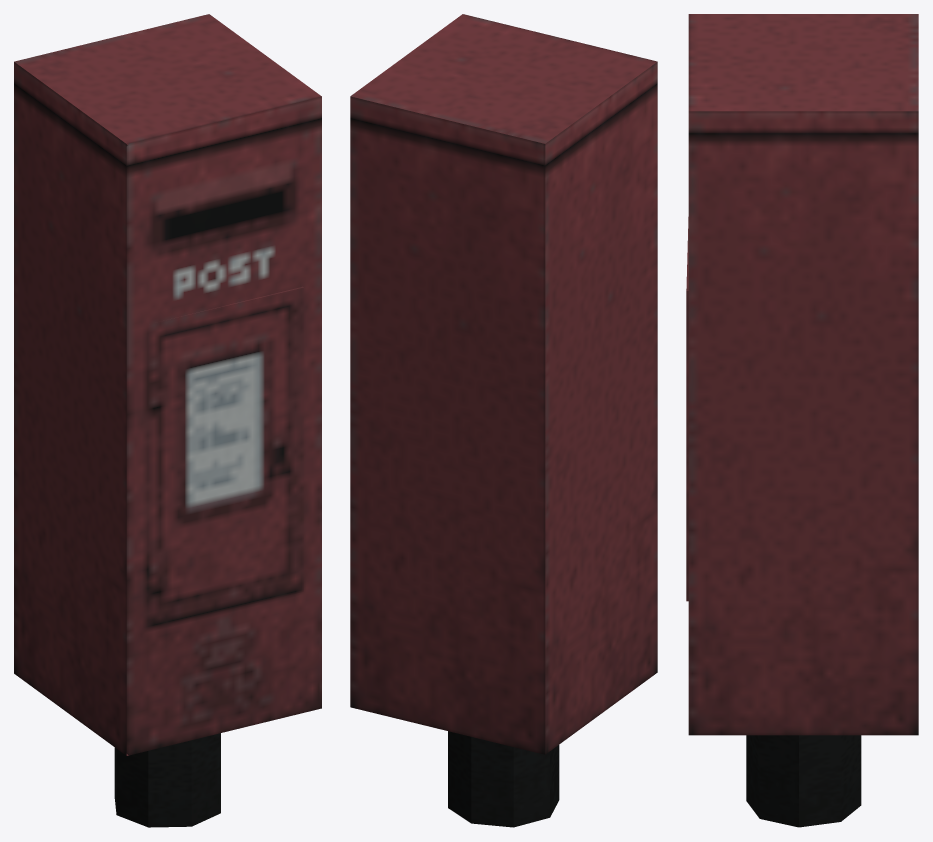
Rendered from SM_EC_Postbox_0.fbx.
The picture shows the model from 3 angles, left to right: view 1: azimuth 30°, elevation 25°; view 2: azimuth 150°, elevation 25°; view 3: azimuth 270°, elevation 25°; orthographic projection. The views are drawn at different scales.
Visible parts, largest first — view 1: SM_EC_Postbox_0, SM_EC_Postbox_Door_0; view 2: SM_EC_Postbox_0; view 3: SM_EC_Postbox_0, SM_EC_Postbox_Door_0.
Part boxes in pixels (box(x1,y1,x2,y2)): SM_EC_Postbox_0: box(14, 14, 321, 827); SM_EC_Postbox_Door_0: box(146, 286, 303, 628); SM_EC_Postbox_0: box(350, 14, 657, 827); SM_EC_Postbox_0: box(688, 14, 918, 827); SM_EC_Postbox_Door_0: box(686, 217, 688, 601).
Bounding box in the file's own units: 0.5006 × 0.5053 × 1.78.
